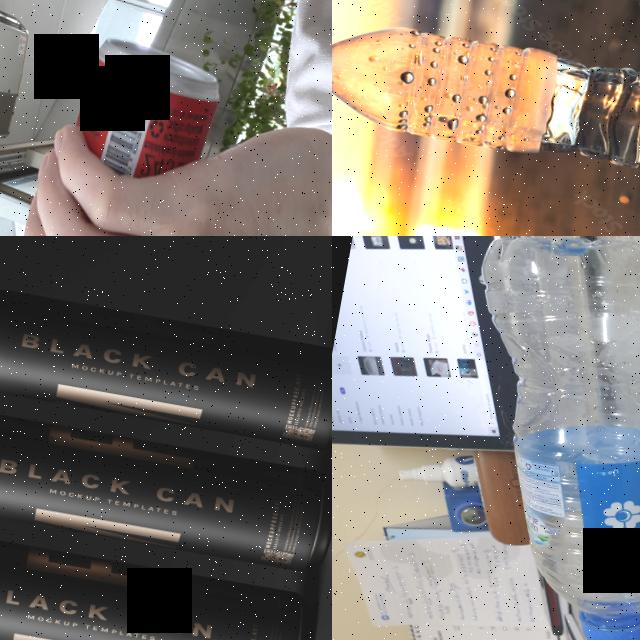bottle: (412, 236, 640, 640), (332, 0, 640, 195)
can: (0, 280, 332, 454), (0, 403, 332, 576), (0, 25, 231, 236), (0, 523, 318, 640)
